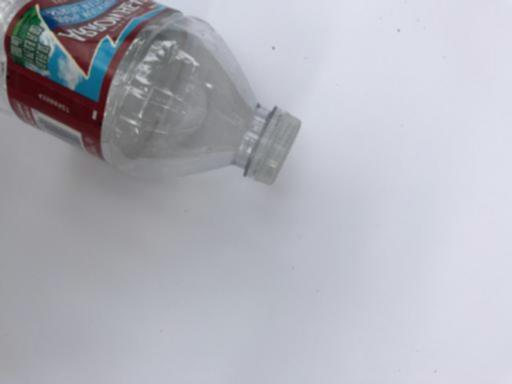PET: (1, 0, 302, 185)
plastic: (1, 0, 302, 185)
water: (1, 0, 302, 185)
